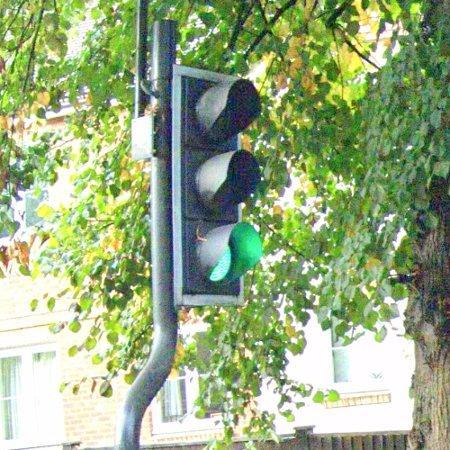traffic lights: (172, 65, 262, 306)
